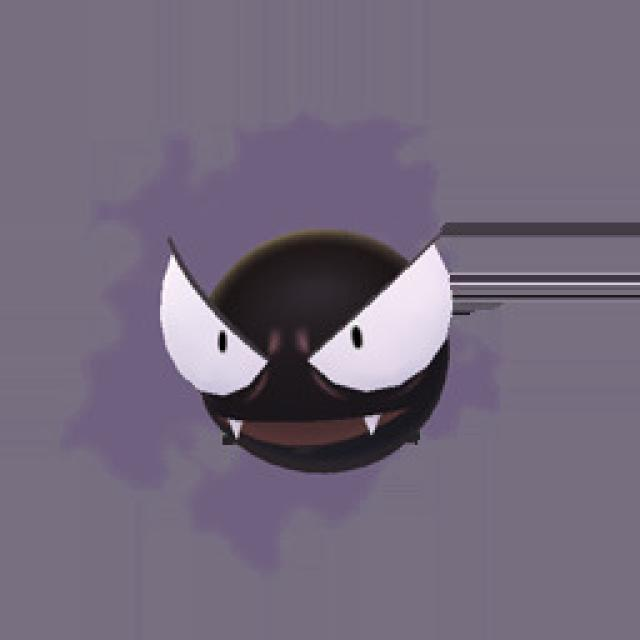Gastly: (99, 134, 513, 546)
